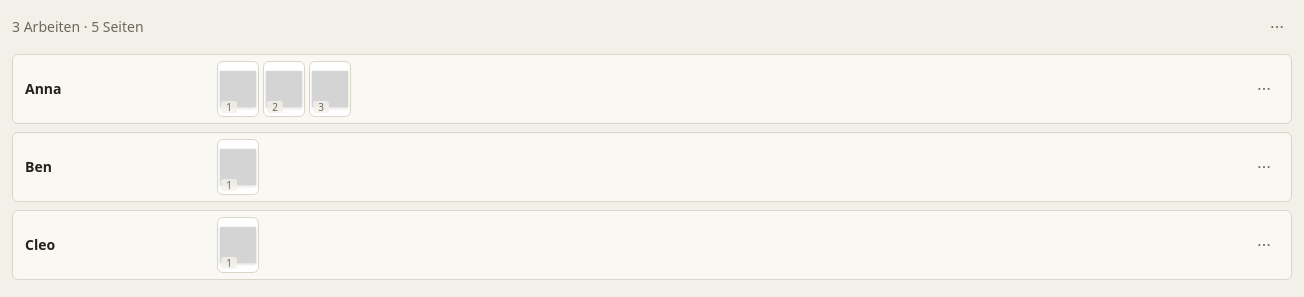
Test case: removing with undo › clears everything and restores it
The width and height of the screenshot is (1304, 297).
Click the button named "Weitere Aktionen für die Klasse". click: (1277, 27)
box: [1262,12,1292,42]
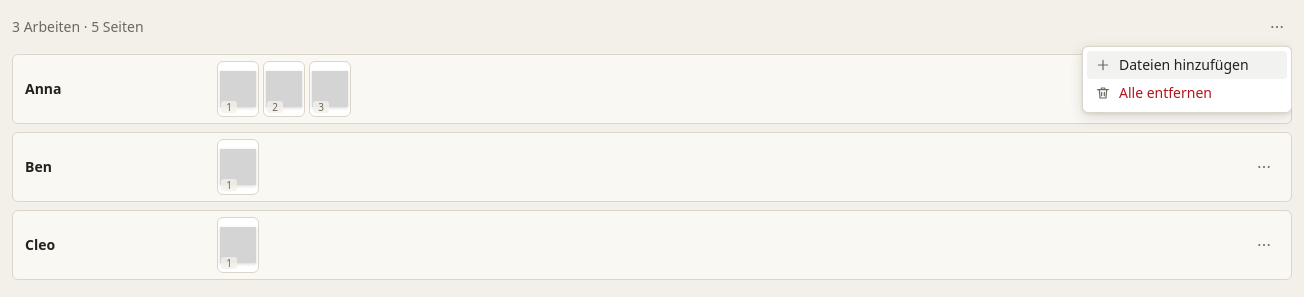
Click the menu item "Alle entfernen". click: (1187, 93)
box: [1087,79,1287,108]
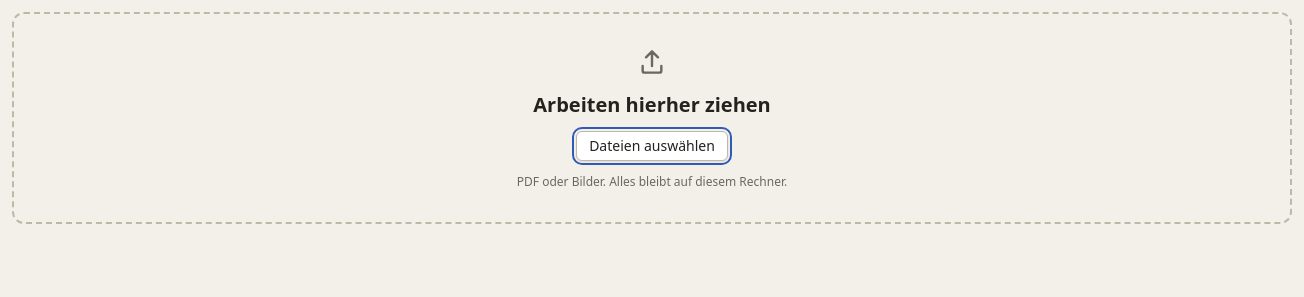
Expected: the text "Arbeiten hierher ziehen" is shown, [533,90,771,119]
